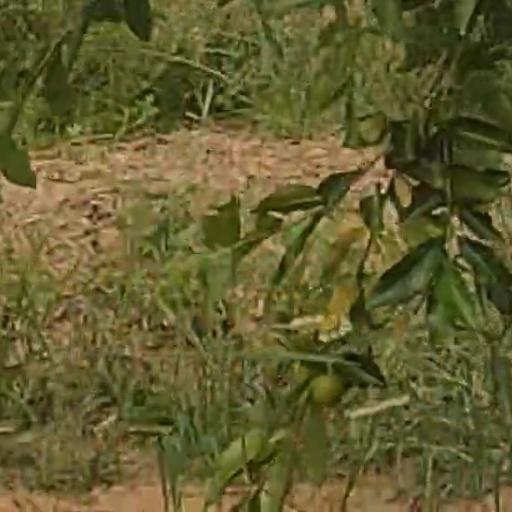acerola_verde: (311, 376, 342, 407)
